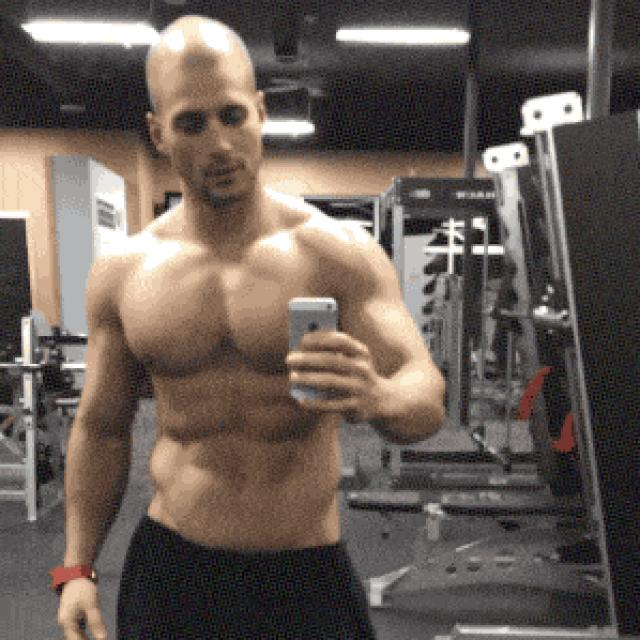human: (47, 10, 451, 640)
